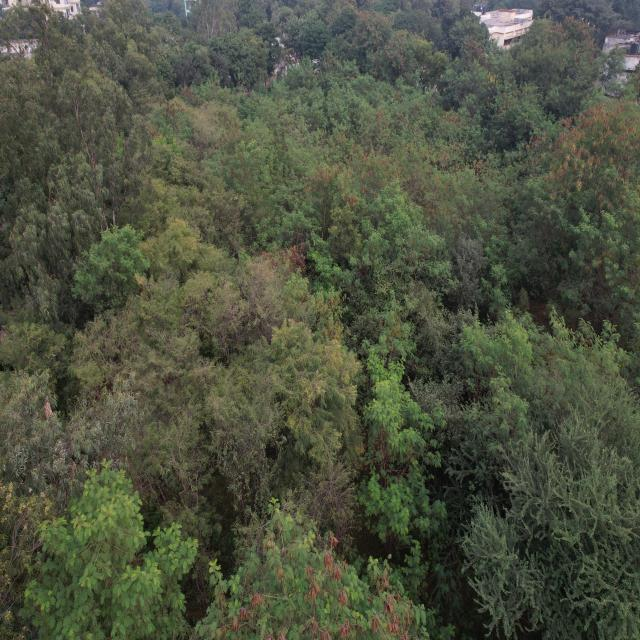Mango Tree: (446, 17, 483, 61)
